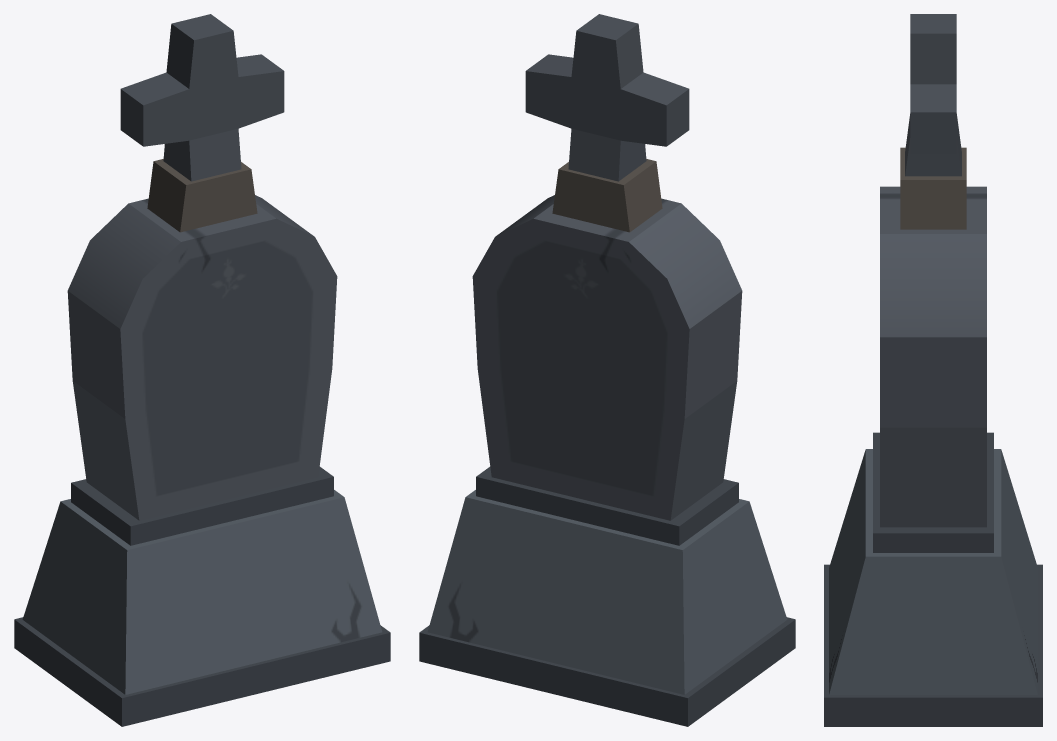
File: Tombstone 05.fbx
The picture shows the model from 3 angles, left to right: view 1: azimuth 30°, elevation 25°; view 2: azimuth 150°, elevation 25°; view 3: azimuth 270°, elevation 25°; orthographic projection.
Visible parts, largest first — view 1: Tombstone_05; view 2: Tombstone_05; view 3: Tombstone_05.
Boxes of the visible parts, x1,y1,x2,y2 form: Tombstone_05: (14, 14, 390, 726); Tombstone_05: (419, 14, 795, 726); Tombstone_05: (824, 14, 1042, 726).
Bounding box in the file's own units: 71.61 × 160 × 49.75.
